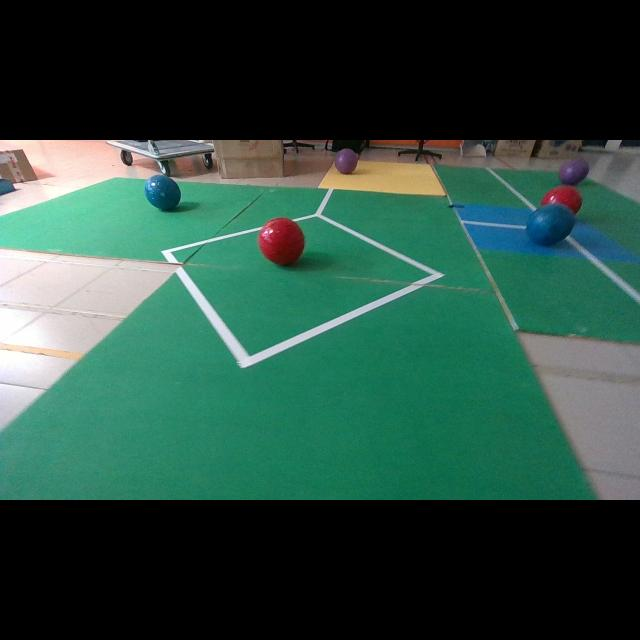B: (526, 204, 575, 246), (144, 175, 181, 210)
P: (559, 159, 589, 185), (335, 149, 358, 174)
R: (259, 218, 305, 265), (540, 185, 582, 214)
